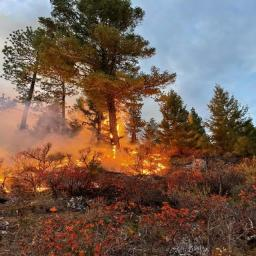Low smoke: (3, 93, 77, 148)
Small fire: (81, 110, 174, 179), (1, 151, 76, 193)
